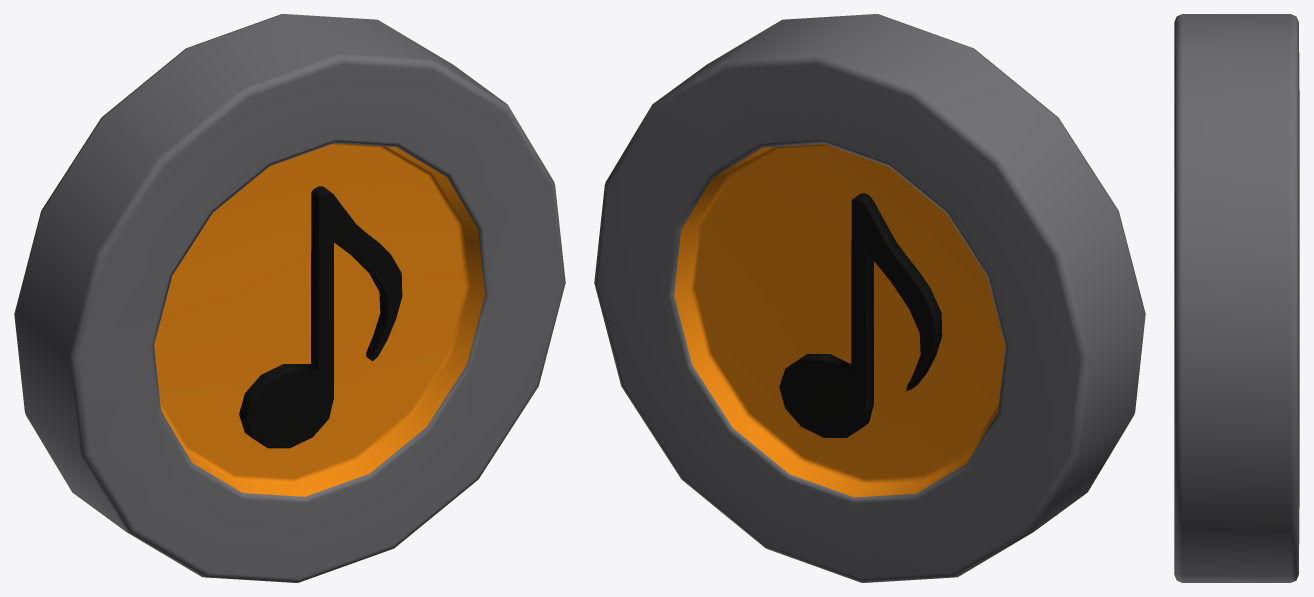
Rendered from coin_silver.fbx.
The picture shows the model from 3 angles, left to right: view 1: azimuth 30°, elevation 25°; view 2: azimuth 150°, elevation 25°; view 3: azimuth 270°, elevation 25°; orthographic projection.
Parts seen in each view (by area): view 1: coin_silver.003; view 2: coin_silver.003; view 3: coin_silver.003.
Boxes of the visible parts, x1,y1,x2,y2 form: coin_silver.003: (14,14,565,582); coin_silver.003: (594,14,1145,582); coin_silver.003: (1174,14,1299,582).
Bounding box in the file's own units: 0.9872 × 0.2162 × 0.9872.
